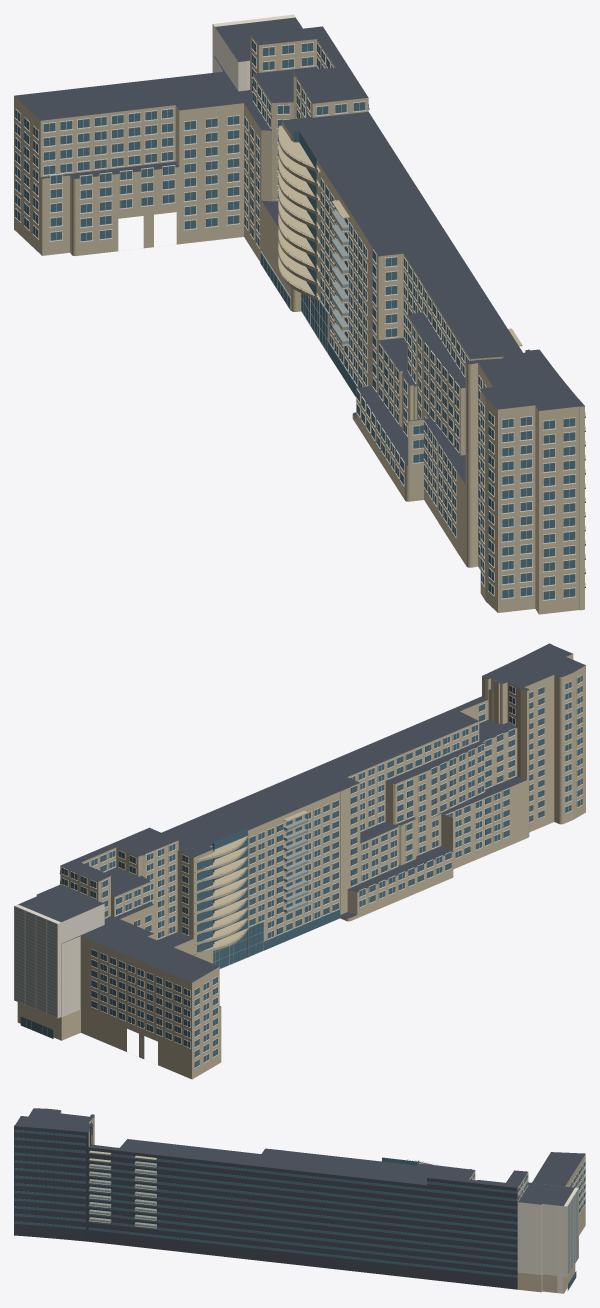
File: mountain-network.glb
The picture shows the model from 3 angles, top to bottom: view 1: azimuth 30°, elevation 25°; view 2: azimuth 150°, elevation 25°; view 3: azimuth 270°, elevation 25°; orthographic projection. The views are drawn at different scales.
Visible parts, largest first — view 1: mountain-network; view 2: mountain-network; view 3: mountain-network.
Part boxes in pixels (x1,y1,x2,y2): mountain-network: (14,14,585,614); mountain-network: (14,643,585,1079); mountain-network: (14,1108,585,1293).
Size of the model in its own units: 65.99 by 43.74 by 207.
